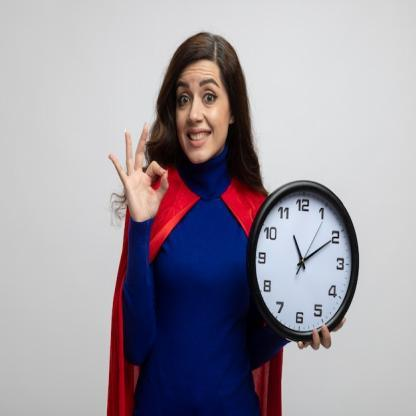ok: (105, 120, 172, 226)
